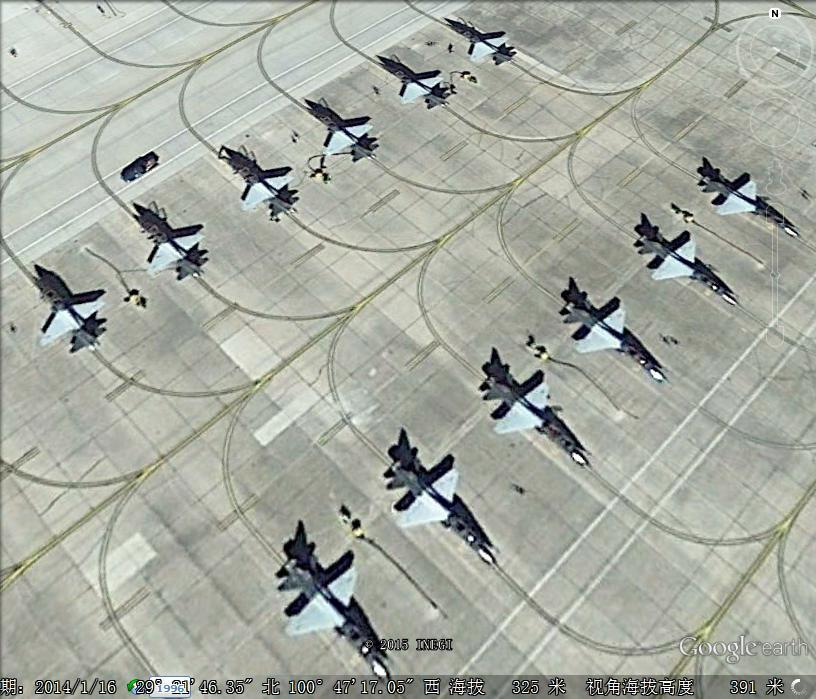plane: (269, 546, 392, 677), (376, 449, 496, 569), (476, 356, 589, 474), (549, 280, 669, 381), (630, 221, 738, 308), (696, 159, 804, 242), (24, 269, 113, 358), (123, 204, 210, 285), (216, 149, 303, 225), (298, 98, 382, 166), (442, 17, 520, 74), (380, 57, 456, 111)
